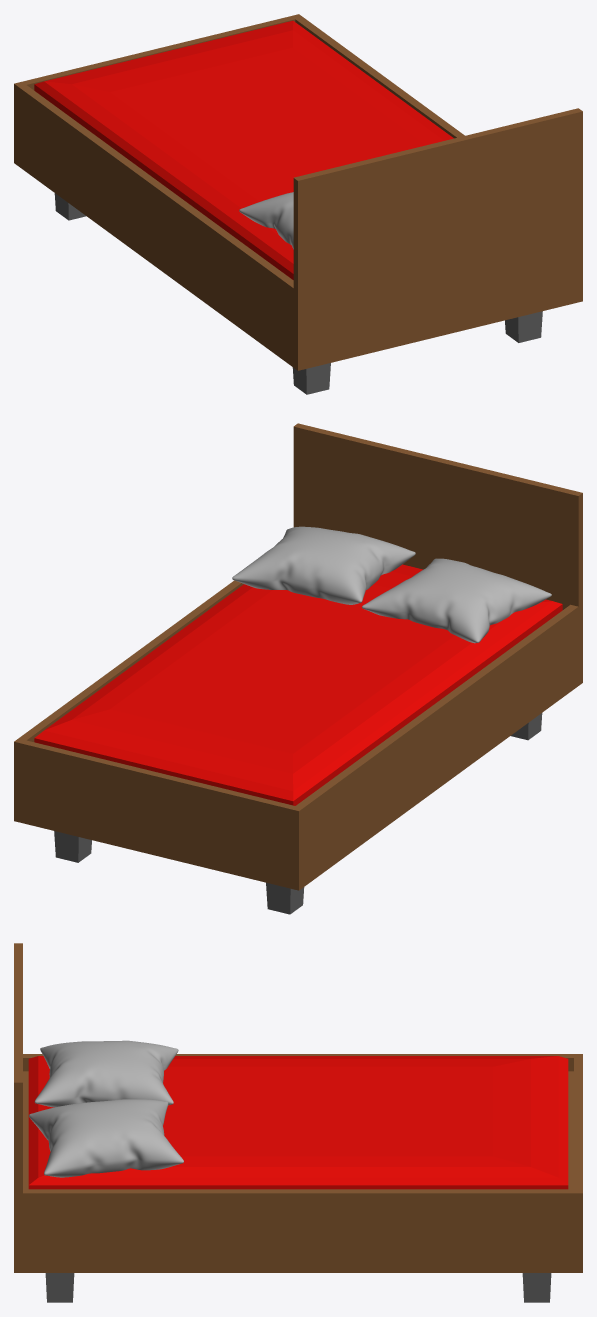
The model's file is Bed.fbx.
The picture shows the model from 3 angles, top to bottom: view 1: azimuth 30°, elevation 25°; view 2: azimuth 150°, elevation 25°; view 3: azimuth 270°, elevation 25°; orthographic projection.
Visible parts, largest first — view 1: Bed; view 2: Bed; view 3: Bed.
Part boxes in pixels (<box>): Bed: <box>14,14,582,394</box>; Bed: <box>14,423,582,914</box>; Bed: <box>14,943,582,1302</box>.
Bounding box in the file's own units: 436 × 339 × 752.
